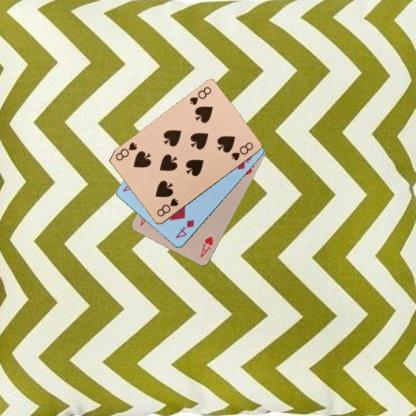4d: (173, 217, 196, 240)
8s: (187, 84, 213, 107), (154, 196, 180, 218)
Ah: (198, 234, 214, 259)
